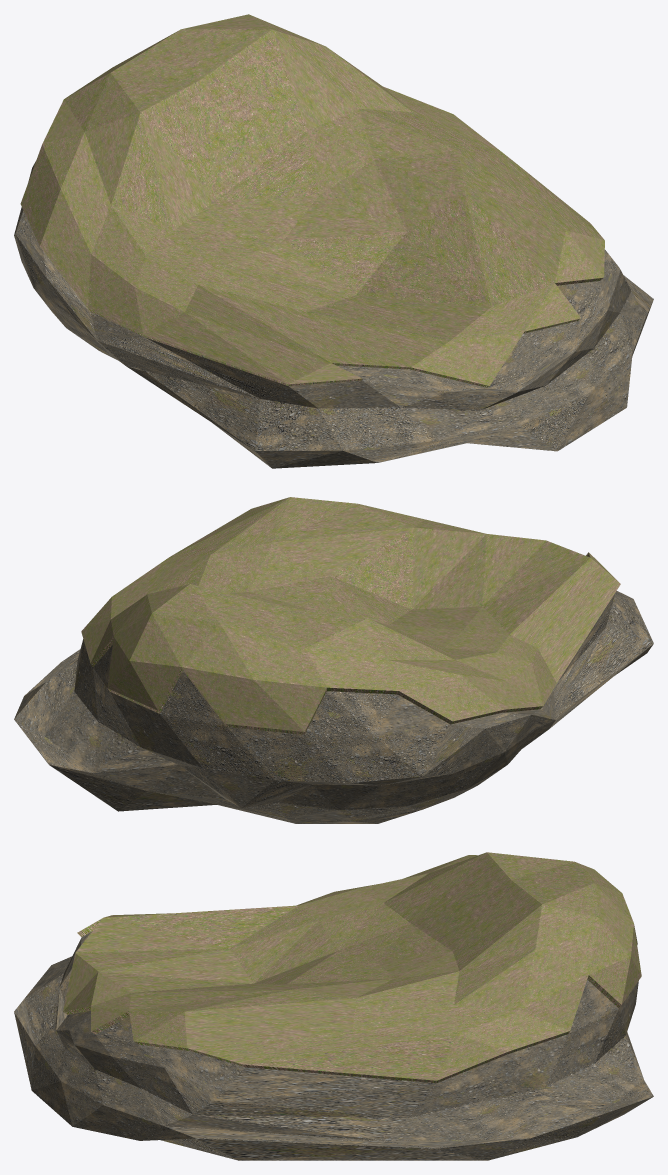
Rendered from rock.gltf.
3 renders of one model, top to bottom at view 1: azimuth 30°, elevation 25°; view 2: azimuth 150°, elevation 25°; view 3: azimuth 270°, elevation 25°, orthographic. The views are drawn at different scales.
Visible parts, largest first — view 1: Icosphere; view 2: Icosphere; view 3: Icosphere.
Boxes of the visible parts, x1,y1,x2,y2 form: Icosphere: (14, 14, 653, 468); Icosphere: (14, 497, 653, 823); Icosphere: (14, 852, 653, 1160).
Bounding box in the file's own units: 169 × 77.83 × 212.
2 materials, 2 textured.
